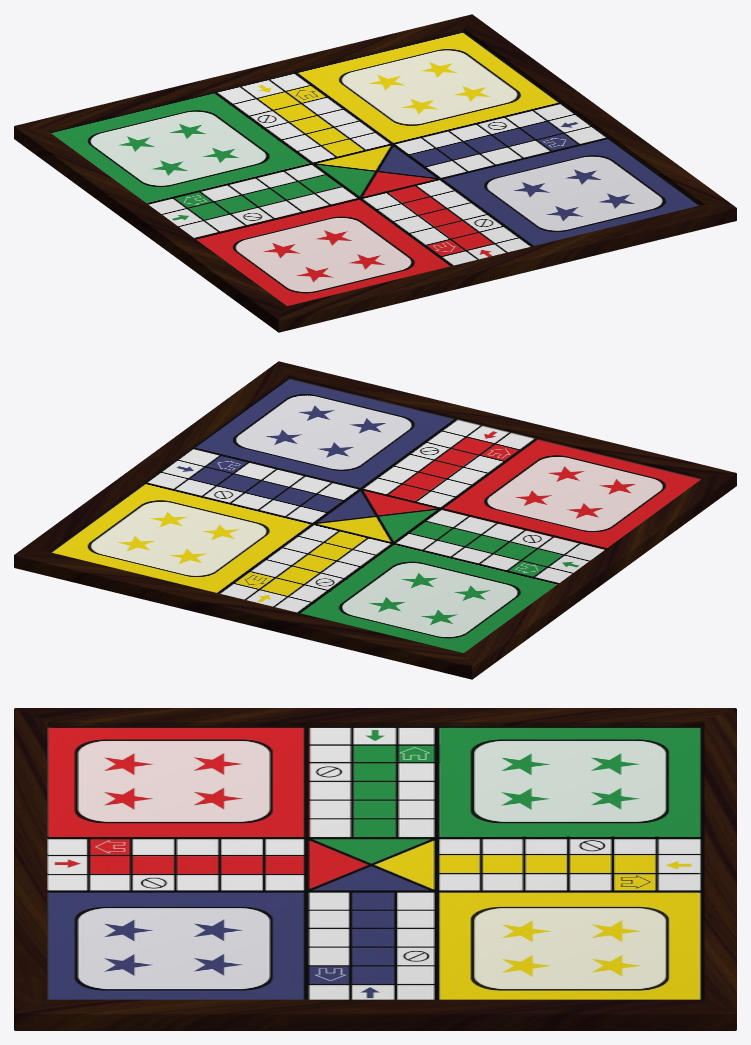
Rendered from board.glb.
3 renders of one model, top to bottom at view 1: azimuth 30°, elevation 25°; view 2: azimuth 150°, elevation 25°; view 3: azimuth 270°, elevation 25°, orthographic. The views are drawn at different scales.
Visible parts, largest first — view 1: Board Baked; view 2: Board Baked; view 3: Board Baked.
Boxes of the visible parts, box(x1,y1,x2,y2) form: Board Baked: box(14, 14, 736, 332); Board Baked: box(14, 361, 736, 679); Board Baked: box(14, 708, 736, 1030).
Bounding box in the file's own units: 0.6708 × 0.0188 × 0.6708.
2 materials, 2 textured.
